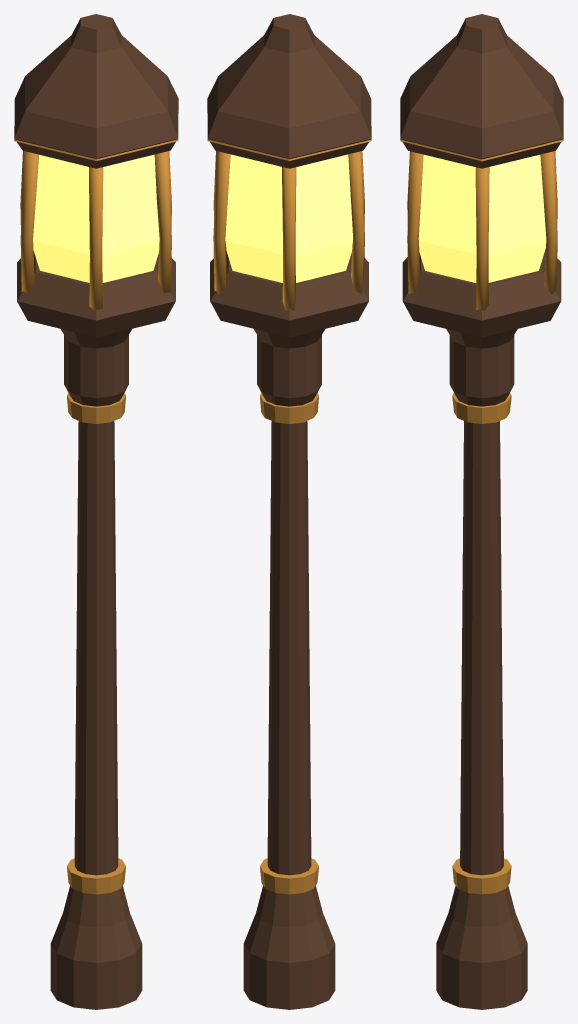
File: amber-lamp.glb
The picture shows the model from 3 angles, left to right: view 1: azimuth 30°, elevation 25°; view 2: azimuth 150°, elevation 25°; view 3: azimuth 270°, elevation 25°; orthographic projection.
Parts seen in each view (by area): view 1: amber-lamp · Patinated bronze, amber-lamp · Amber lamp glass, amber-lamp · Hammered brass; view 2: amber-lamp · Patinated bronze, amber-lamp · Amber lamp glass, amber-lamp · Hammered brass; view 3: amber-lamp · Patinated bronze, amber-lamp · Amber lamp glass, amber-lamp · Hammered brass.
Boxes of the visible parts, x1=… form: amber-lamp · Patinated bronze: x1=14, y1=14, x2=178, y2=1009; amber-lamp · Amber lamp glass: x1=33, y1=154, x2=159, y2=282; amber-lamp · Hammered brass: x1=14, y1=111, x2=178, y2=894; amber-lamp · Patinated bronze: x1=207, y1=14, x2=371, y2=1009; amber-lamp · Amber lamp glass: x1=225, y1=154, x2=352, y2=282; amber-lamp · Hammered brass: x1=207, y1=111, x2=371, y2=894; amber-lamp · Patinated bronze: x1=400, y1=14, x2=563, y2=1009; amber-lamp · Amber lamp glass: x1=418, y1=154, x2=546, y2=282; amber-lamp · Hammered brass: x1=400, y1=139, x2=563, y2=894.
Size of the model in its own units: 0.6211 by 3.5 by 0.5352.
